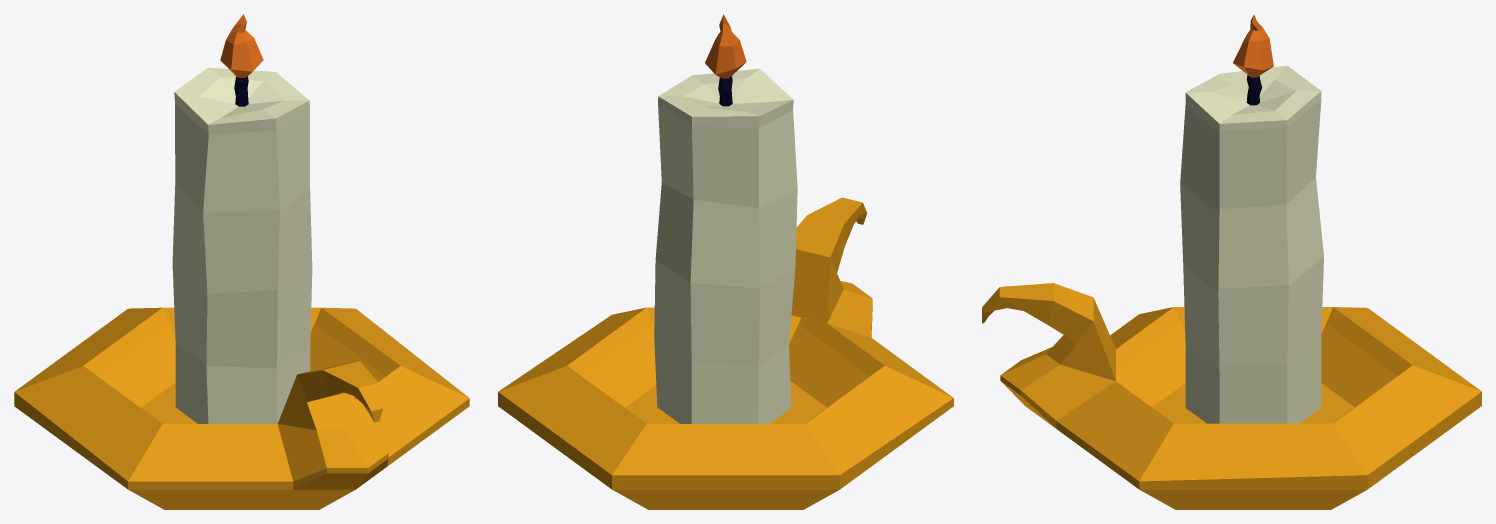
The picture shows the model from 3 angles, left to right: view 1: azimuth 30°, elevation 25°; view 2: azimuth 150°, elevation 25°; view 3: azimuth 270°, elevation 25°; orthographic projection.
Parts seen in each view (by area): view 1: Candle, Holder, Handle, Flame; view 2: Holder, Candle, Handle, Flame; view 3: Holder, Candle, Handle, Flame.
Boxes of the visible parts, x1=… form: Candle: x1=172, y1=67, x2=312, y2=423; Holder: x1=14, y1=307, x2=469, y2=509; Handle: x1=278, y1=361, x2=388, y2=489; Flame: x1=220, y1=14, x2=263, y2=77; Holder: x1=498, y1=307, x2=953, y2=509; Candle: x1=654, y1=68, x2=797, y2=423; Handle: x1=791, y1=197, x2=872, y2=337; Flame: x1=705, y1=14, x2=746, y2=78; Holder: x1=1056, y1=307, x2=1481, y2=509; Candle: x1=1180, y1=65, x2=1323, y2=423; Handle: x1=982, y1=283, x2=1115, y2=428; Flame: x1=1233, y1=14, x2=1273, y2=77.
Bounding box in the file's own units: 1.73 × 2.13 × 2.19.
